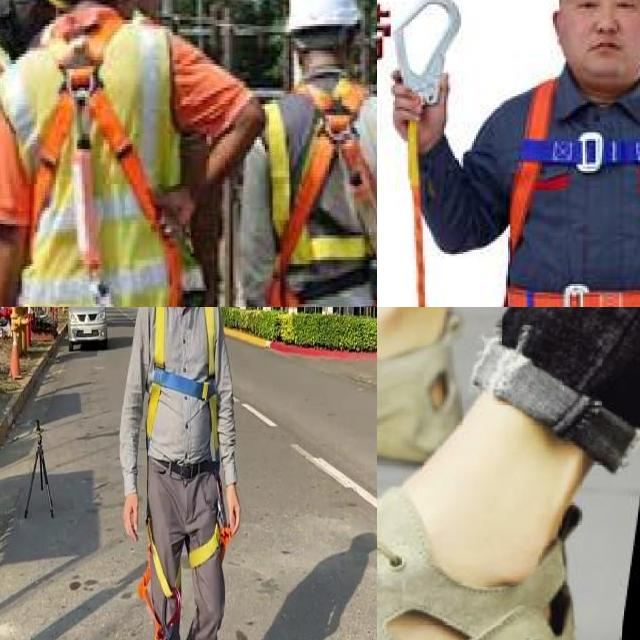Harness: (34, 19, 177, 307), (489, 75, 640, 307), (272, 83, 377, 307), (147, 307, 221, 462), (138, 518, 182, 640)
Sandals: (377, 420, 617, 640)
